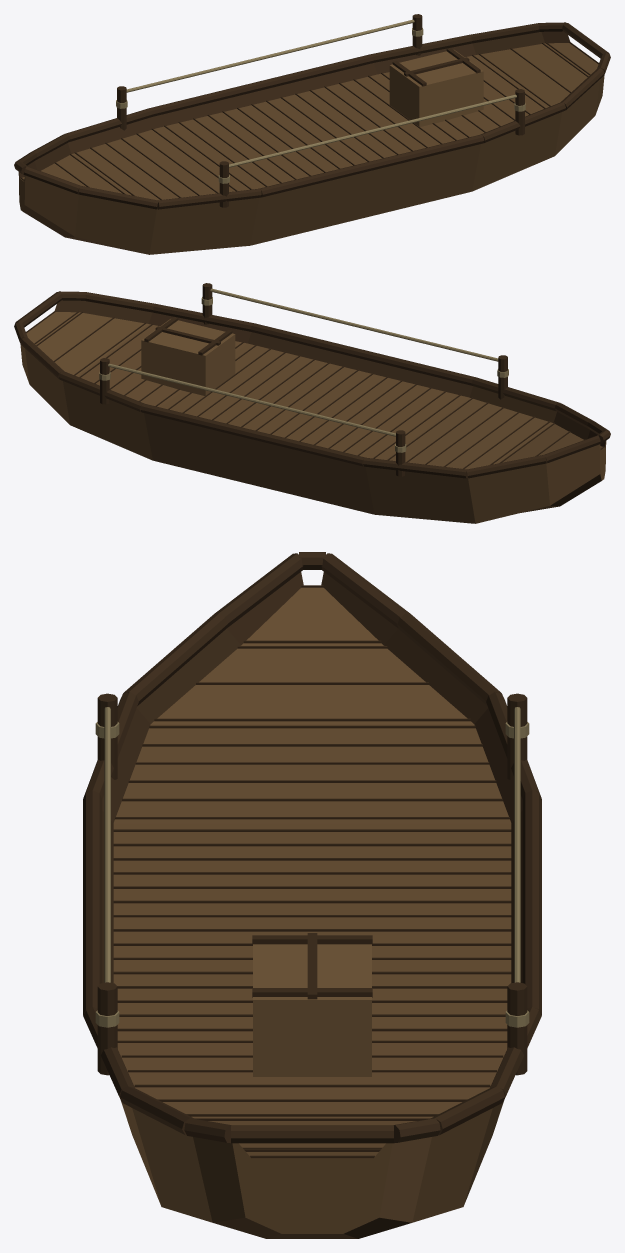
Rendered from RTS-FERRY-001-v3.glb.
3 views of the same model, one above another, from view 1: azimuth 30°, elevation 25°; view 2: azimuth 150°, elevation 25°; view 3: azimuth 270°, elevation 25° (orthographic). The views are drawn at different scales.
Parts seen in each view (by area): view 1: RTS-FERRY-001; view 2: RTS-FERRY-001; view 3: RTS-FERRY-001.
Boxes of the visible parts, x1,y1,x2,y2 form: RTS-FERRY-001: [14, 14, 610, 254]; RTS-FERRY-001: [14, 283, 610, 523]; RTS-FERRY-001: [83, 552, 541, 1238].
Size of the model in its own units: 8.9 by 1.53 by 3.09.
